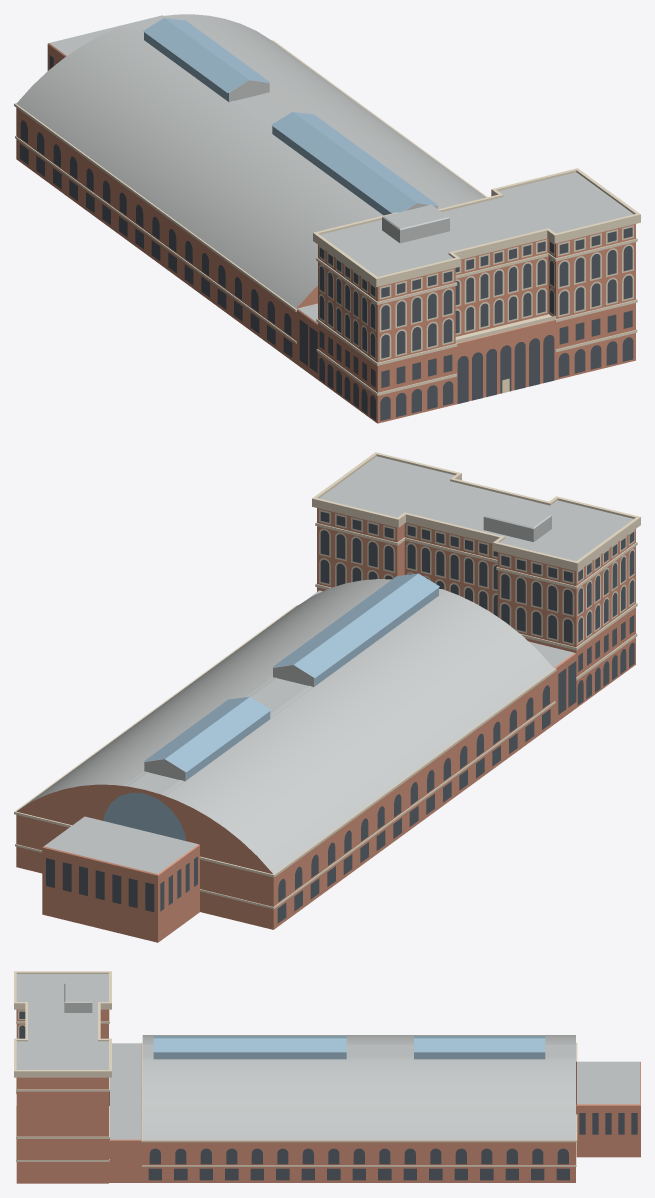
Rendered from phl-reading-terminal.glb.
The picture shows the model from 3 angles, top to bottom: view 1: azimuth 30°, elevation 25°; view 2: azimuth 150°, elevation 25°; view 3: azimuth 270°, elevation 25°; orthographic projection. The views are drawn at different scales.
Parts seen in each view (by area): view 1: Reading Terminal; view 2: Reading Terminal; view 3: Reading Terminal.
Part boxes in pixels (box(x1,y1,x2,y2)): Reading Terminal: box(14, 14, 640, 423); Reading Terminal: box(14, 452, 640, 942); Reading Terminal: box(14, 971, 640, 1183).
Size of the model in its own units: 84.6 by 48.5 by 224.
